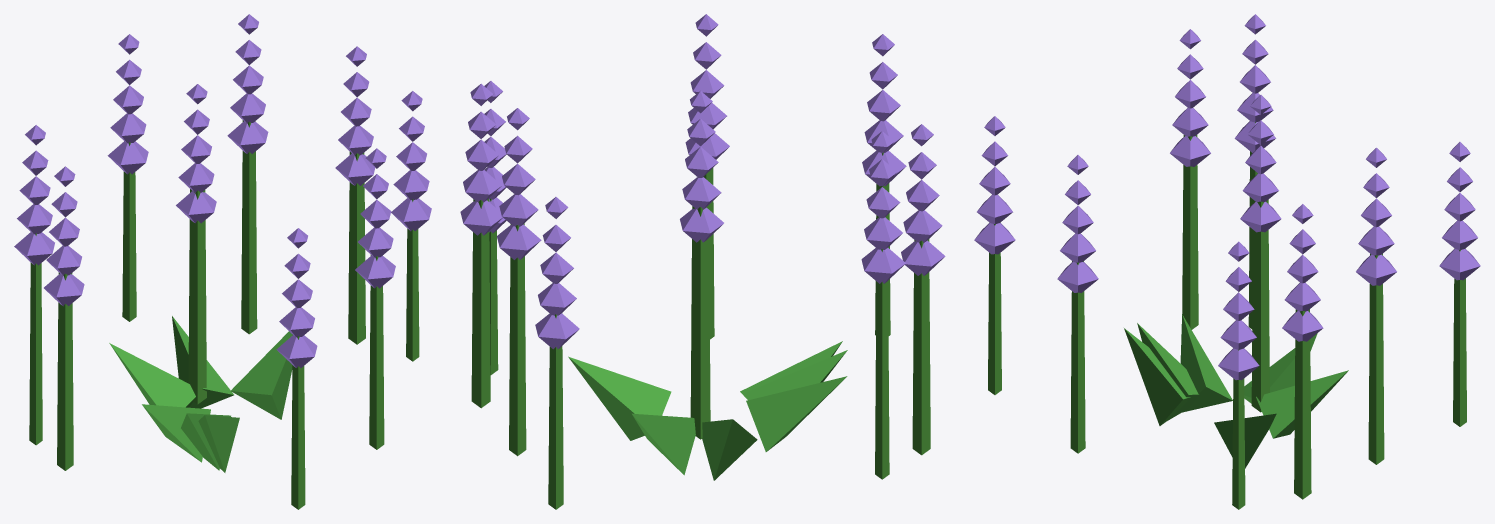
The model's file is Flowers_Lavender.fbx.
3 views of the same model, side by side, from view 1: azimuth 30°, elevation 25°; view 2: azimuth 150°, elevation 25°; view 3: azimuth 270°, elevation 25° (orthographic). The views are drawn at different scales.
Parts seen in each view (by area): view 1: Flowers_Lavender; view 2: Flowers_Lavender; view 3: Flowers_Lavender.
Boxes of the visible parts, x1,y1,x2,y2 form: Flowers_Lavender: [14, 14, 431, 509]; Flowers_Lavender: [460, 14, 945, 509]; Flowers_Lavender: [974, 14, 1480, 509].
Bounding box in the file's own units: 1.06 × 0.8691 × 1.16.
